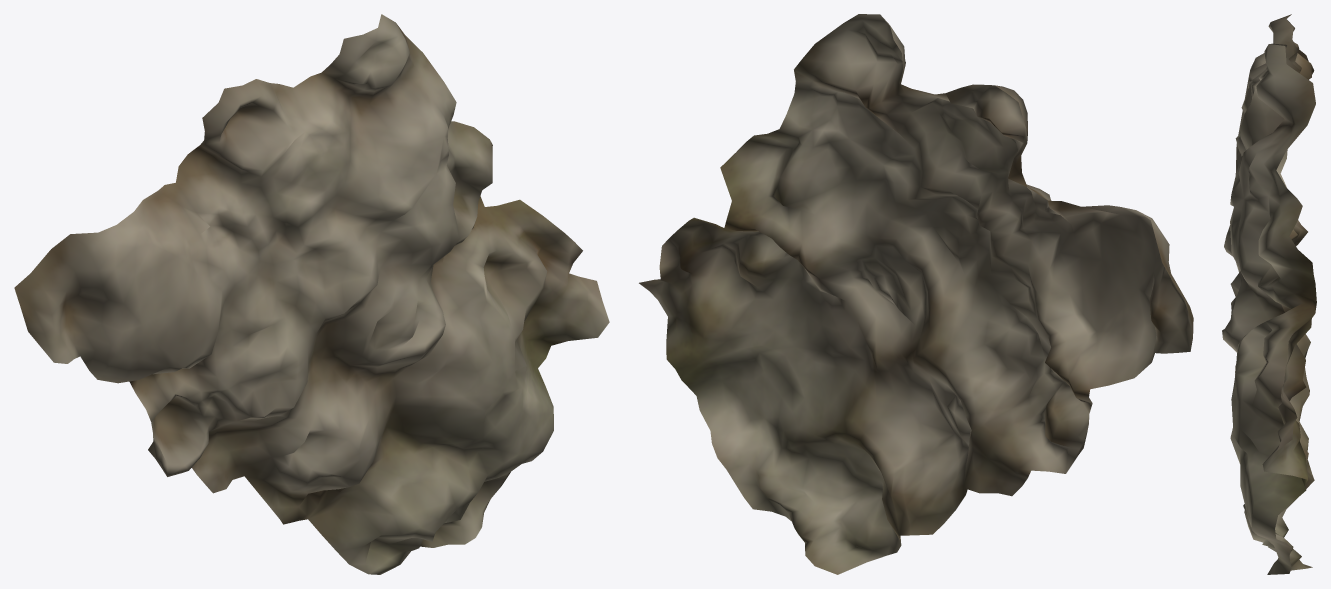
Rendered from Barnacle09.fbx.
3 views of the same model, side by side, from view 1: azimuth 30°, elevation 25°; view 2: azimuth 150°, elevation 25°; view 3: azimuth 270°, elevation 25° (orthographic). The views are drawn at different scales.
Parts seen in each view (by area): view 1: Barnacle09; view 2: Barnacle09; view 3: Barnacle09.
Part boxes in pixels (left/top/right/bottom): Barnacle09: left=14, top=14, right=609, bottom=574; Barnacle09: left=639, top=14, right=1193, bottom=574; Barnacle09: left=1222, top=14, right=1316, bottom=574.
Bounding box in the file's own units: 56.77 × 53.59 × 8.93.
